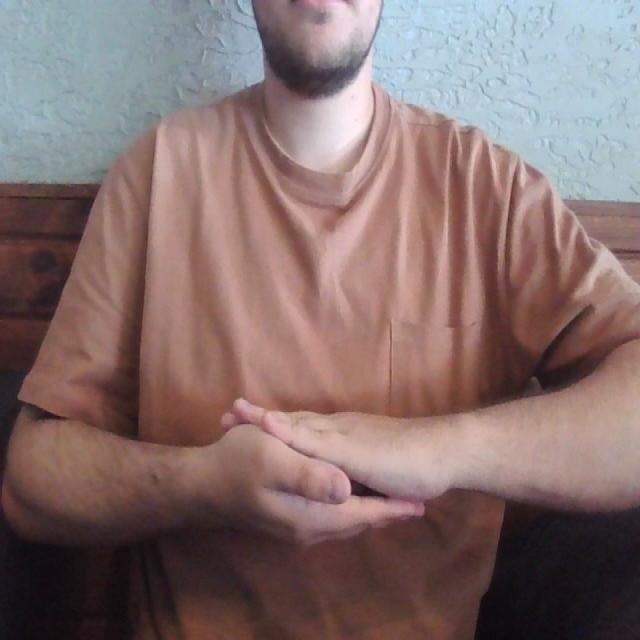Arkadas: (70, 365, 565, 556)
